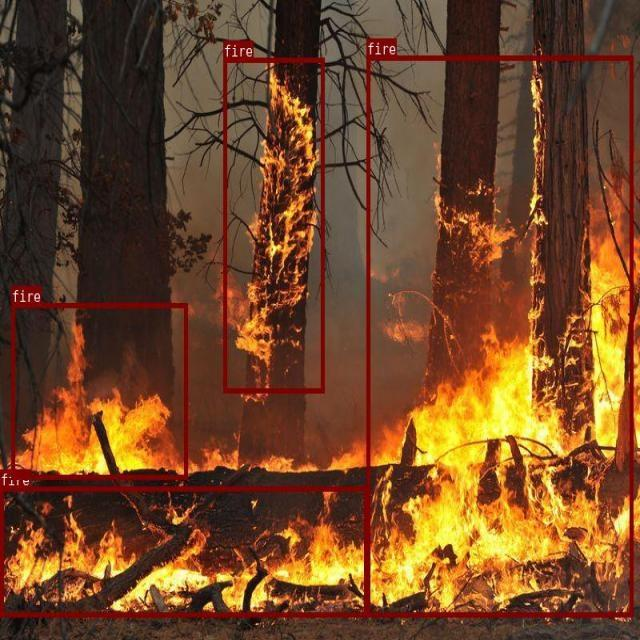fire: (366, 55, 633, 616), (0, 486, 367, 616), (223, 57, 324, 392), (11, 303, 187, 478)
